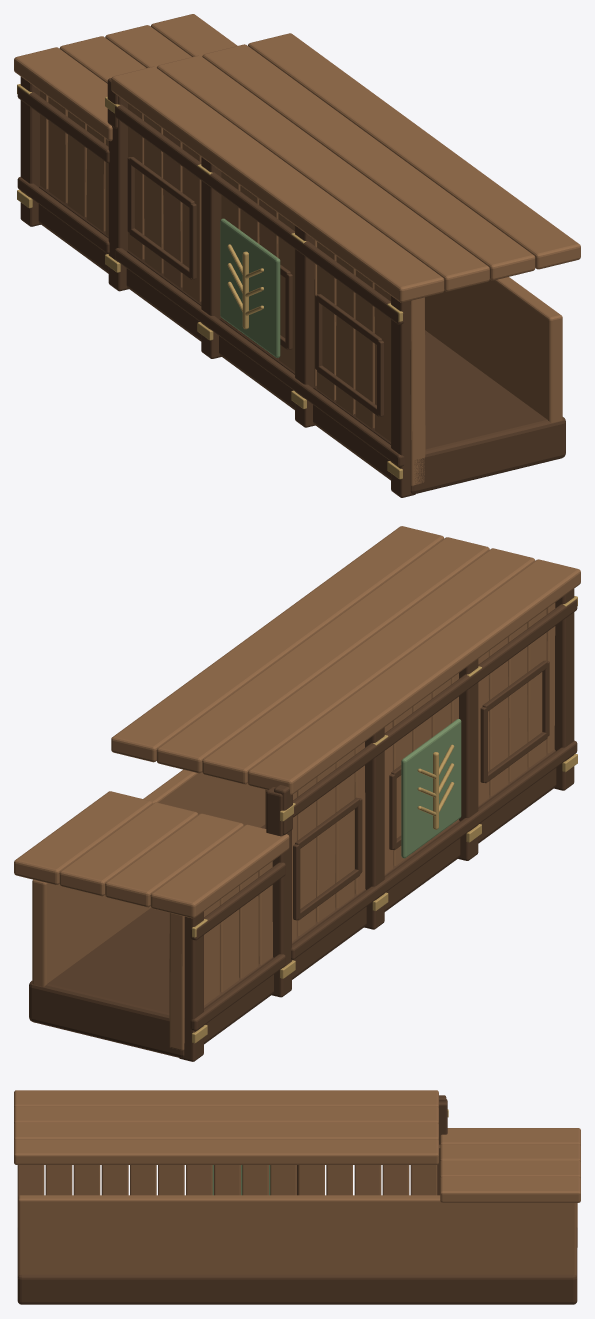
The model's file is SM_HH_Q3_CounterStepped.fbx.
The picture shows the model from 3 angles, top to bottom: view 1: azimuth 30°, elevation 25°; view 2: azimuth 150°, elevation 25°; view 3: azimuth 270°, elevation 25°; orthographic projection. The views are drawn at different scales.
Parts seen in each view (by area): view 1: HH_Q3_CounterStepped; view 2: HH_Q3_CounterStepped; view 3: HH_Q3_CounterStepped.
Boxes of the visible parts, left/top/right/bottom form: HH_Q3_CounterStepped: left=14, top=14, right=580, bottom=497; HH_Q3_CounterStepped: left=14, top=526, right=580, bottom=1061; HH_Q3_CounterStepped: left=14, top=1090, right=580, bottom=1304.
Size of the model in its own units: 3.39 by 0.951 by 1.03.
